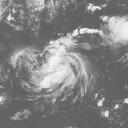cyclone: (29, 38, 89, 100)
